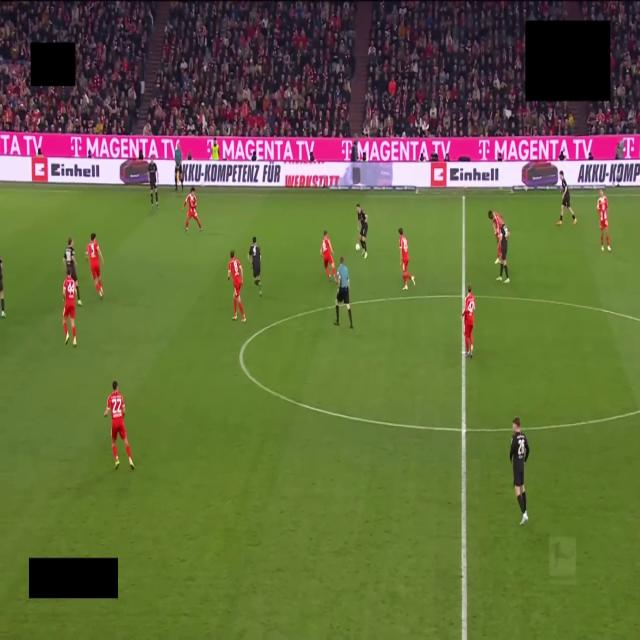ball: (356, 243, 360, 250)
player: (104, 381, 134, 470), (510, 417, 529, 524), (63, 238, 82, 305), (228, 250, 245, 322), (86, 233, 103, 298), (63, 267, 76, 346), (399, 228, 415, 290), (558, 171, 576, 225), (462, 286, 475, 357), (183, 187, 202, 232), (249, 237, 262, 296), (497, 221, 509, 283), (321, 231, 336, 280), (598, 190, 610, 251), (489, 210, 502, 263), (356, 204, 368, 258), (148, 156, 158, 208), (0, 256, 5, 318)
referee: (335, 257, 353, 328)
